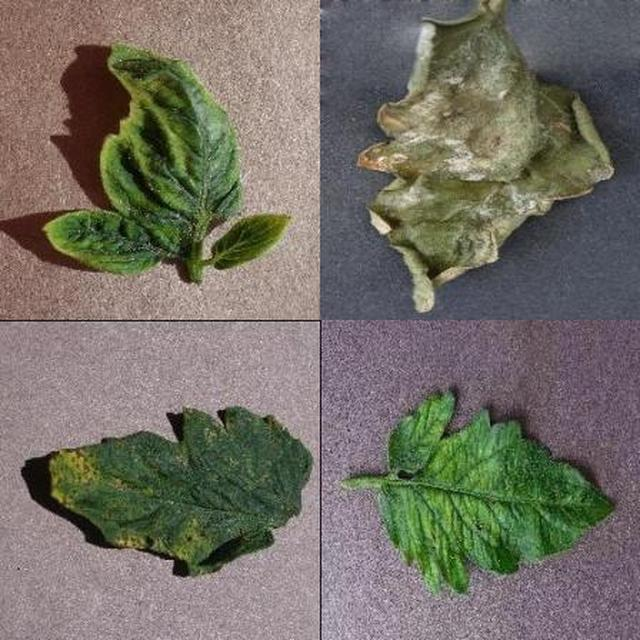Yellow Leaf Curl Virus: (116, 89, 640, 640)
